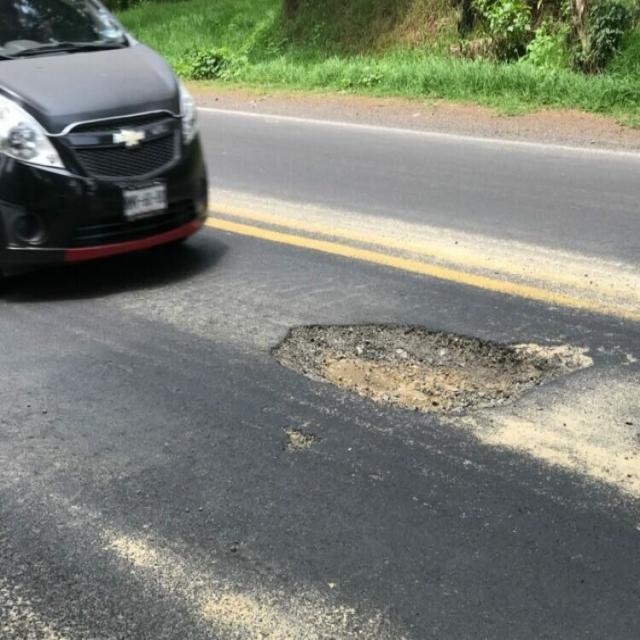Buraco: (268, 321, 596, 415)
